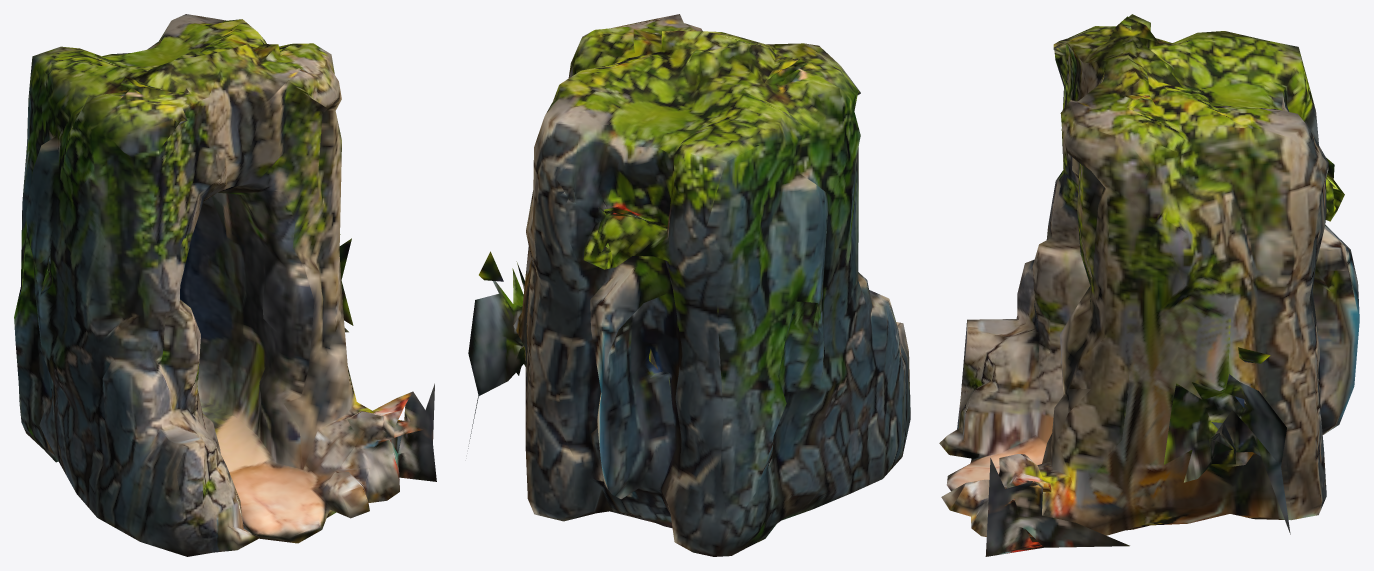
Rendered from CoastalCave_Wall.fbx.
3 views of the same model, side by side, from view 1: azimuth 30°, elevation 25°; view 2: azimuth 150°, elevation 25°; view 3: azimuth 270°, elevation 25° (orthographic). The views are drawn at different scales.
Visible parts, largest first — view 1: CoastalCave_Wall_Mesh; view 2: CoastalCave_Wall_Mesh; view 3: CoastalCave_Wall_Mesh.
Part boxes in pixels (bbox=[...]): CoastalCave_Wall_Mesh: bbox=[14, 14, 436, 556]; CoastalCave_Wall_Mesh: bbox=[468, 14, 910, 556]; CoastalCave_Wall_Mesh: bbox=[939, 14, 1359, 556].
Bounding box in the file's own units: 6 × 8.17 × 6.93.
1 material, 1 textured.
